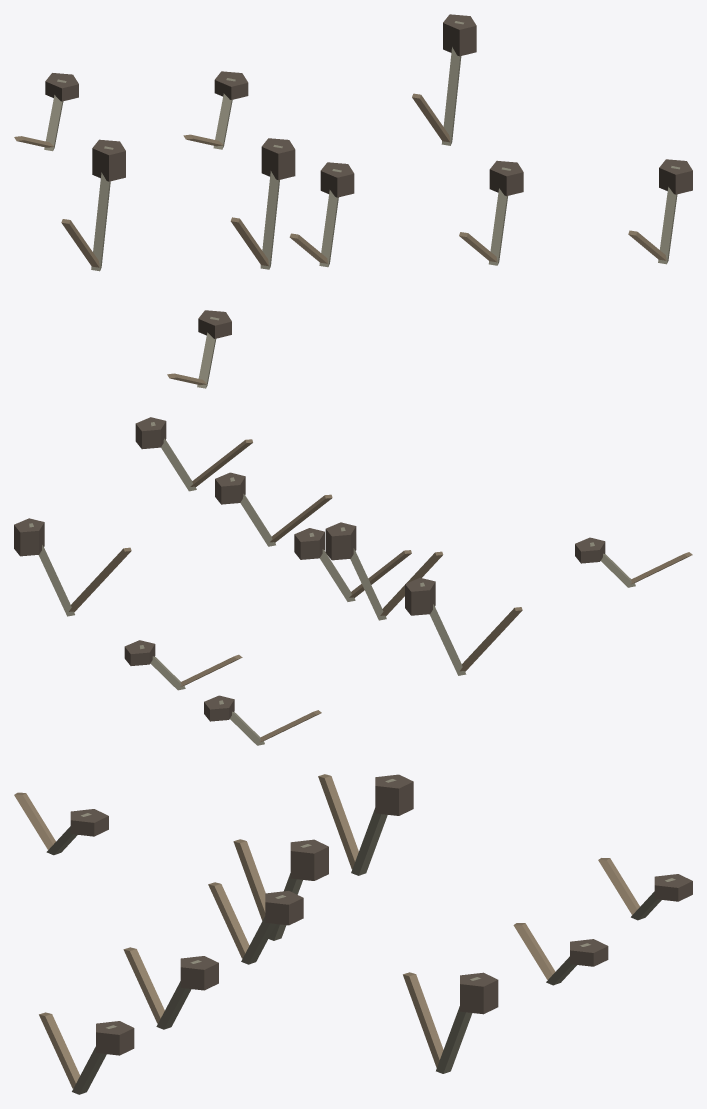
Rendered from reed_clump.glb.
3 renders of one model, top to bottom at view 1: azimuth 30°, elevation 25°; view 2: azimuth 150°, elevation 25°; view 3: azimuth 270°, elevation 25°, orthographic. The views are drawn at different scales.
Parts seen in each view (by area): view 1: reed_clump; view 2: reed_clump; view 3: reed_clump.
Part boxes in pixels (x1,y1,x2,y2): reed_clump: (14, 14, 692, 388); reed_clump: (14, 417, 692, 745); reed_clump: (14, 774, 692, 1094).
Size of the model in its own units: 2.88 by 0.5 by 2.88.
